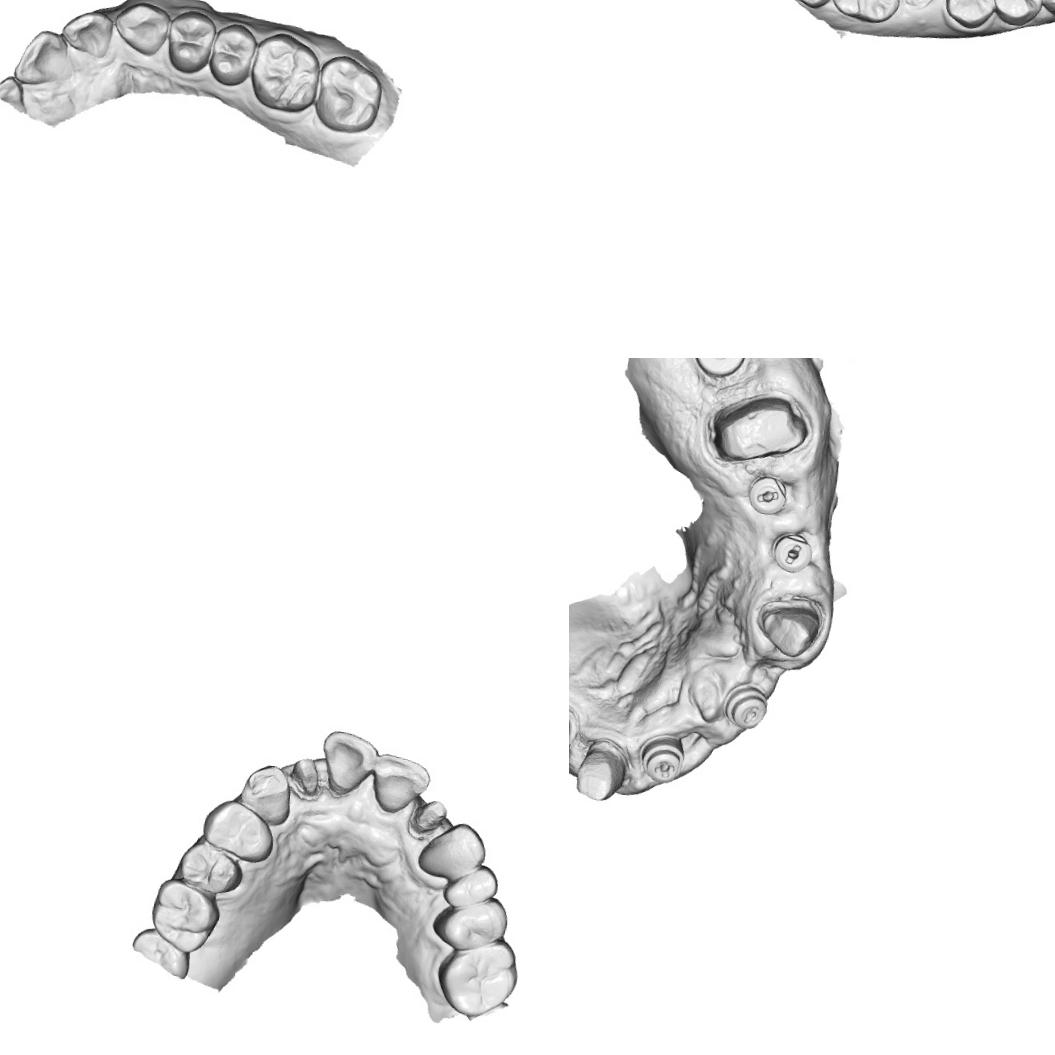canine: (234, 762, 296, 830), (109, 0, 173, 60)
crown: (715, 390, 808, 466), (754, 598, 822, 666), (570, 737, 626, 805), (408, 794, 453, 840), (290, 750, 327, 802)
implant: (690, 358, 750, 378)
implant_minus: (746, 469, 792, 518), (723, 685, 770, 732), (773, 531, 814, 573)
implant_plus: (640, 737, 686, 788)
incisor: (317, 727, 382, 800), (366, 749, 433, 819), (8, 25, 76, 89), (56, 6, 118, 62)
molar: (432, 931, 522, 1023), (246, 28, 327, 117), (146, 874, 226, 959), (311, 51, 387, 138), (427, 892, 512, 956), (126, 924, 192, 981), (824, 0, 905, 26)
premolar: (197, 793, 278, 866), (412, 816, 491, 884), (175, 838, 246, 899), (205, 18, 263, 90), (162, 5, 219, 77), (439, 858, 502, 914), (940, 0, 1000, 31), (990, 0, 1047, 29)
